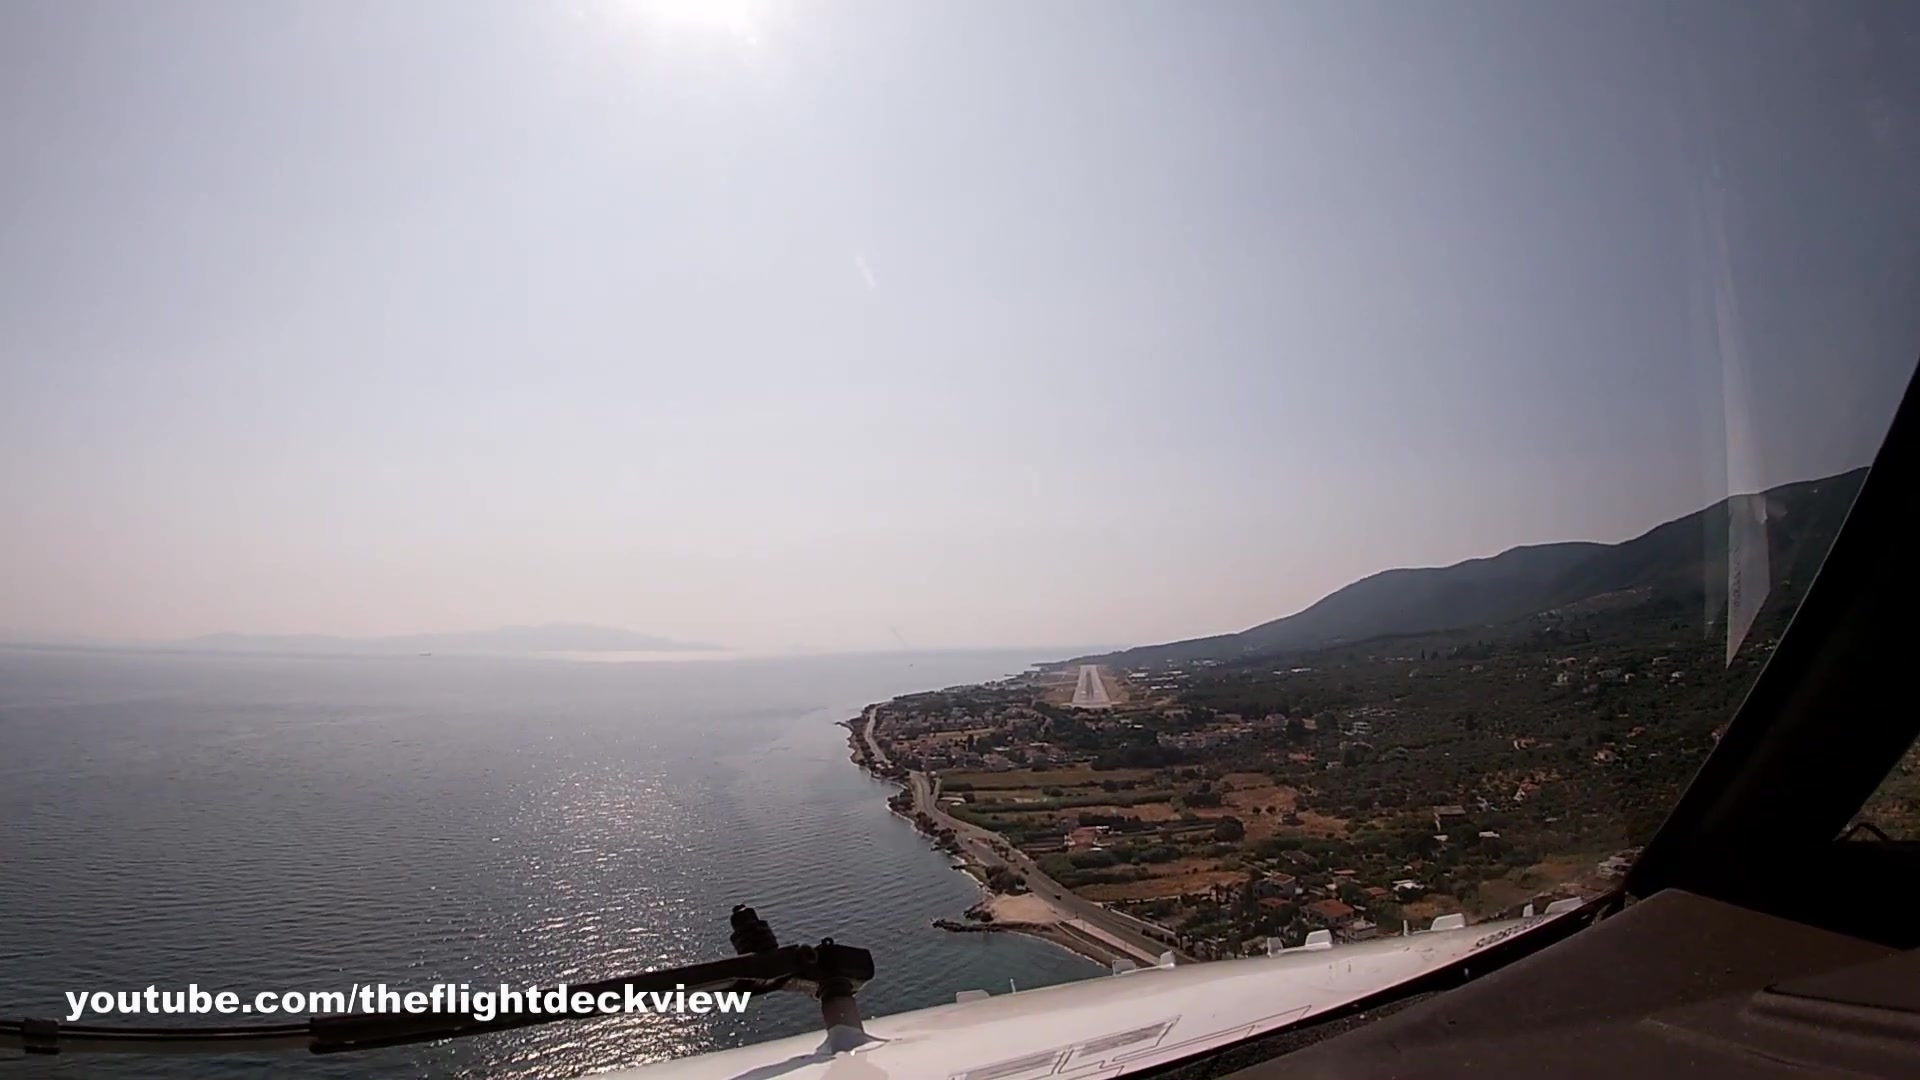runway: (1069, 663, 1112, 708)
